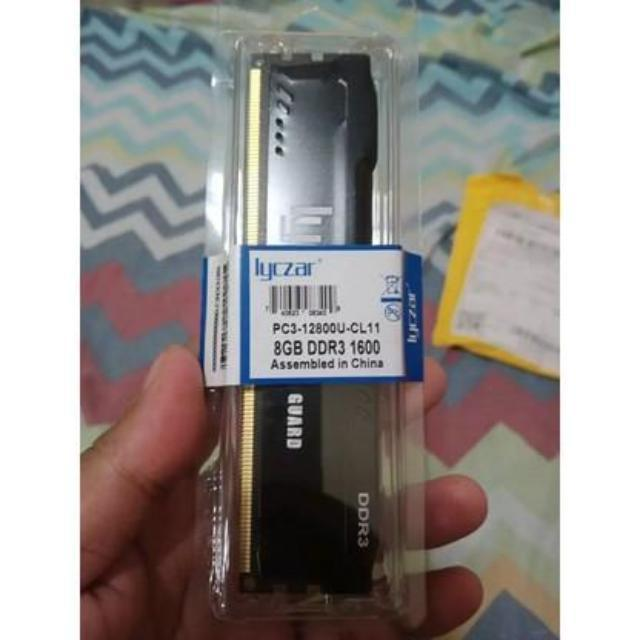RAM: (218, 42, 404, 610)
